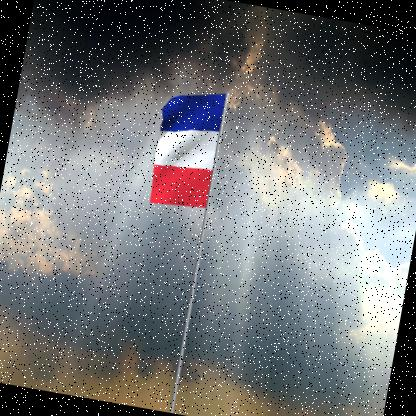fr: (146, 85, 227, 215)
